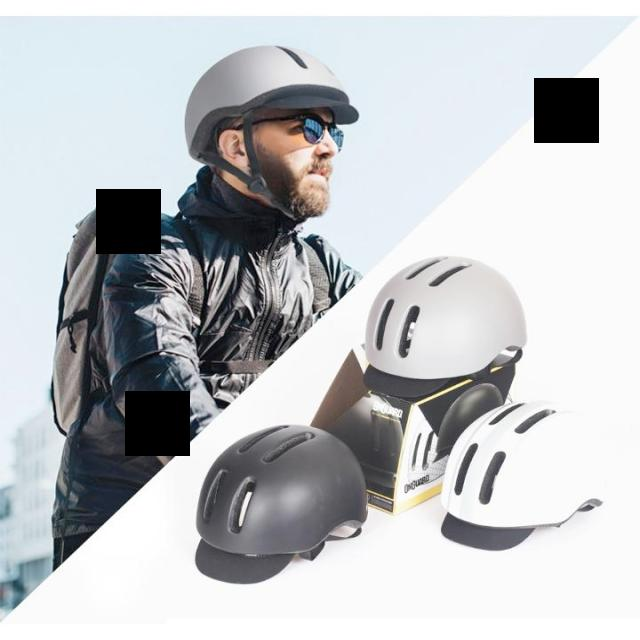Helmet: (182, 43, 362, 221), (196, 429, 372, 586), (362, 248, 543, 398), (432, 406, 615, 551)
